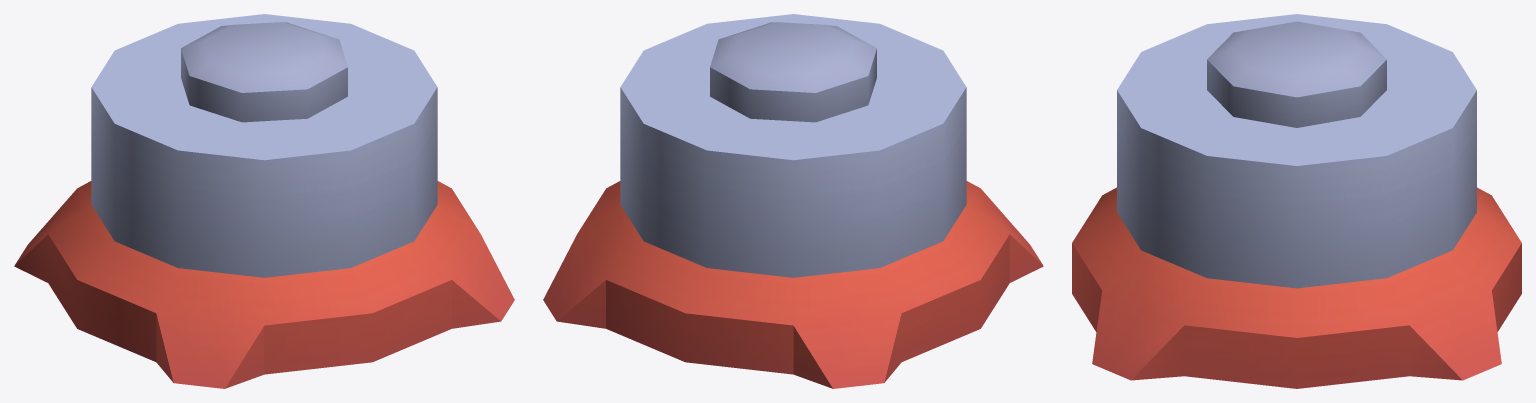
Rendered from tower-round-bottom-b.glb.
3 renders of one model, left to right at view 1: azimuth 30°, elevation 25°; view 2: azimuth 150°, elevation 25°; view 3: azimuth 270°, elevation 25°, orthographic. The views are drawn at different scales.
Parts seen in each view (by area): view 1: tower-round-bottom-b; view 2: tower-round-bottom-b; view 3: tower-round-bottom-b.
Boxes of the visible parts, x1=… form: tower-round-bottom-b: x1=14, y1=14, x2=514, y2=388; tower-round-bottom-b: x1=543, y1=14, x2=1043, y2=388; tower-round-bottom-b: x1=1072, y1=14, x2=1521, y2=388.
Size of the model in its own units: 1 by 0.6001 by 1.
Materials: 1 (1 with a texture image).
